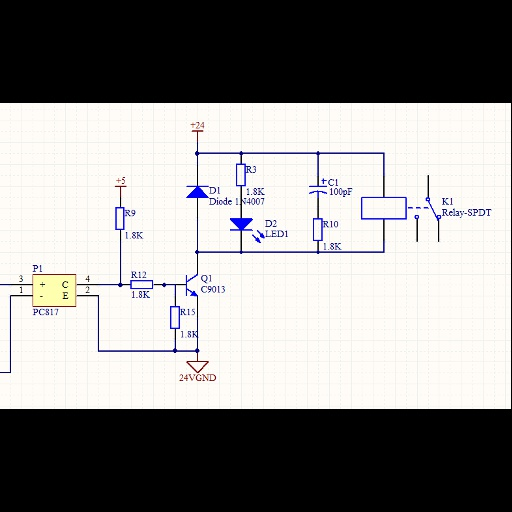firstdiode: (183, 183, 209, 200)
firstled: (226, 215, 265, 245)
firstpolarcapacitor: (305, 176, 328, 200)
firstresistance: (310, 215, 324, 244), (112, 203, 125, 233), (128, 278, 156, 291), (168, 304, 181, 332), (234, 160, 246, 188)
